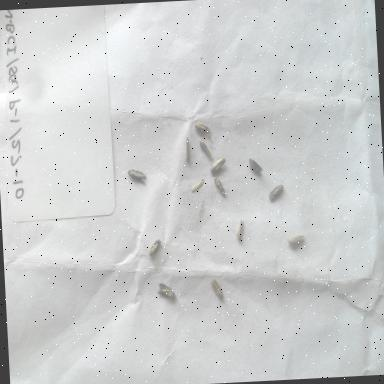pbw: (140, 233, 164, 262), (124, 164, 148, 186), (206, 150, 228, 173), (154, 280, 177, 301), (192, 114, 212, 138), (208, 276, 225, 300), (197, 136, 214, 160), (266, 180, 284, 202), (181, 134, 193, 162), (233, 217, 246, 242), (286, 230, 306, 246), (213, 176, 228, 197), (189, 177, 206, 194), (247, 156, 263, 174)
